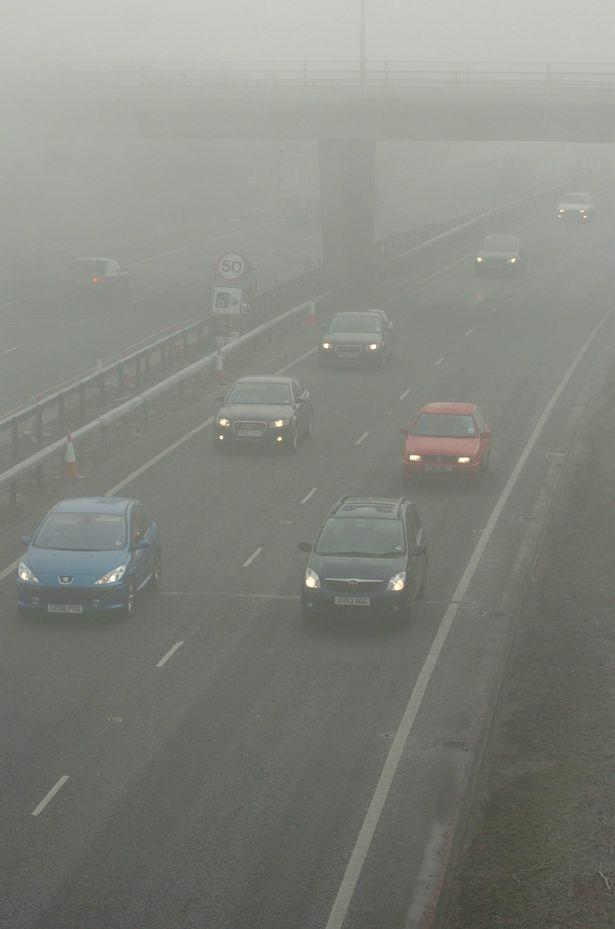car: (12, 495, 162, 624), (296, 494, 429, 630), (397, 401, 493, 487), (213, 376, 315, 455), (316, 308, 397, 370), (62, 258, 131, 304), (472, 233, 529, 278), (553, 192, 596, 226)
